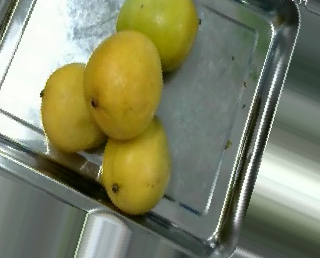Mango: (83, 30, 161, 139), (102, 115, 169, 215), (116, 0, 198, 73), (42, 63, 105, 150)
